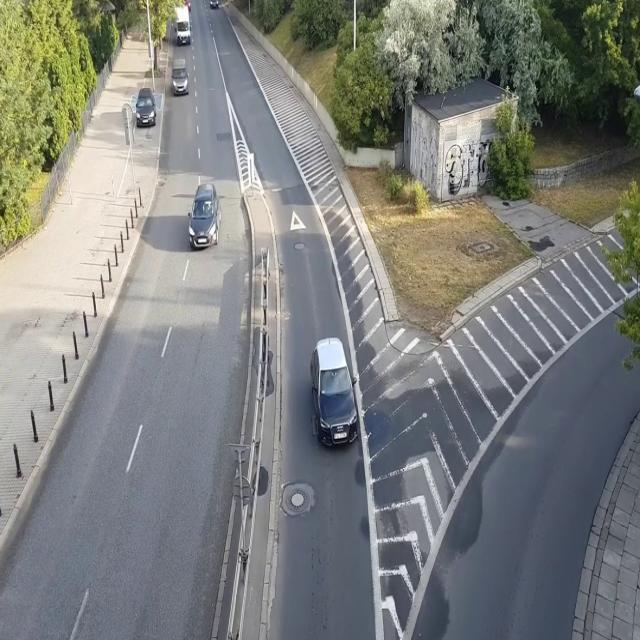car: (308, 330, 360, 453), (187, 182, 221, 251), (135, 86, 156, 126), (171, 57, 189, 96), (209, 0, 219, 9)
truck: (174, 5, 192, 46)
